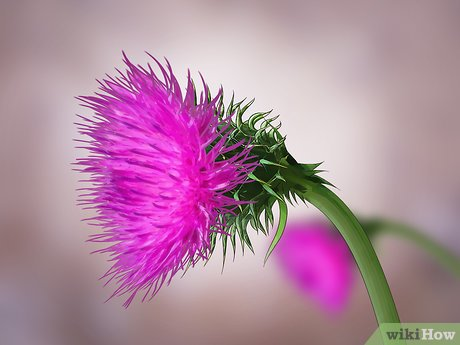thistle: (72, 48, 323, 279)
